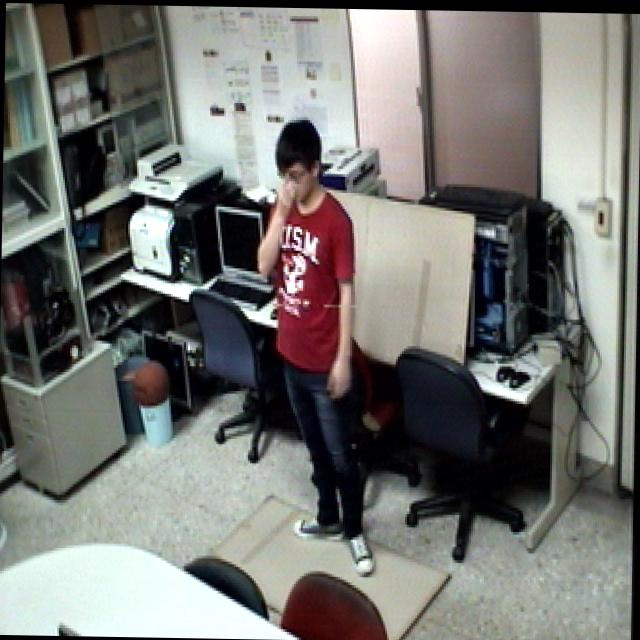stand: (238, 110, 391, 588)
